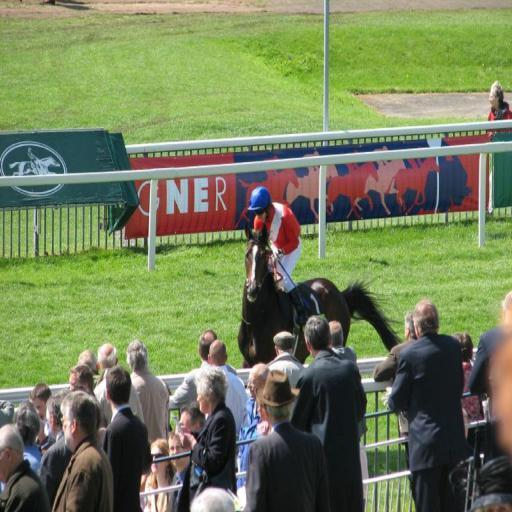horse: (236, 218, 404, 368), (236, 168, 300, 230), (345, 158, 407, 218), (322, 160, 380, 218), (385, 156, 443, 214), (284, 163, 341, 220), (7, 152, 63, 180)
